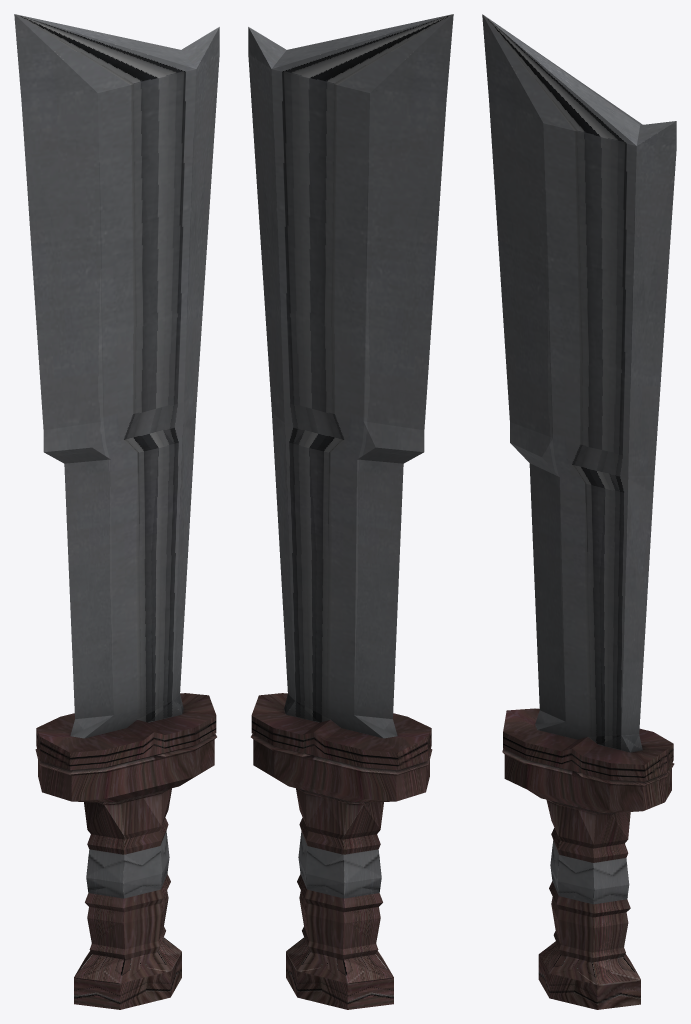
The model's file is Dwarf_Sword_Dori.fbx.
The picture shows the model from 3 angles, left to right: view 1: azimuth 30°, elevation 25°; view 2: azimuth 150°, elevation 25°; view 3: azimuth 330°, elevation 25°; orthographic projection. The views are drawn at different scales.
Visible parts, largest first — view 1: sword; view 2: sword; view 3: sword.
Part boxes in pixels (x1,y1,x2,y2): sword: [14, 14, 219, 1009]; sword: [248, 14, 453, 1009]; sword: [482, 14, 676, 1009].
Size of the model in its own units: 125 by 586 by 48.56.
